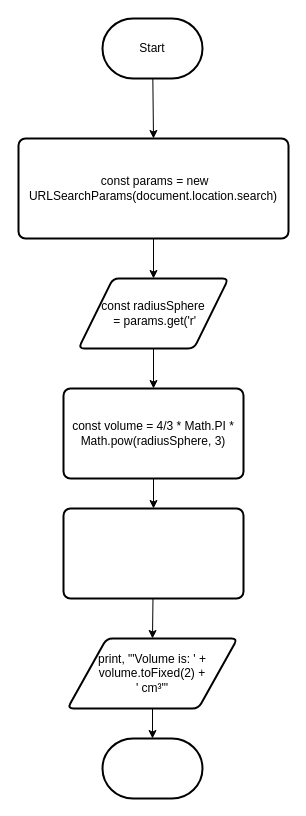
The diagram is 306 pixels wide and 816 high, and some of its shapes have lost their labels. Each missing label, with the centre of its shape:
const dimensions = "<ul>\n<li>r = " + radiusSphere: (153,553)
Stop: (152,768)
